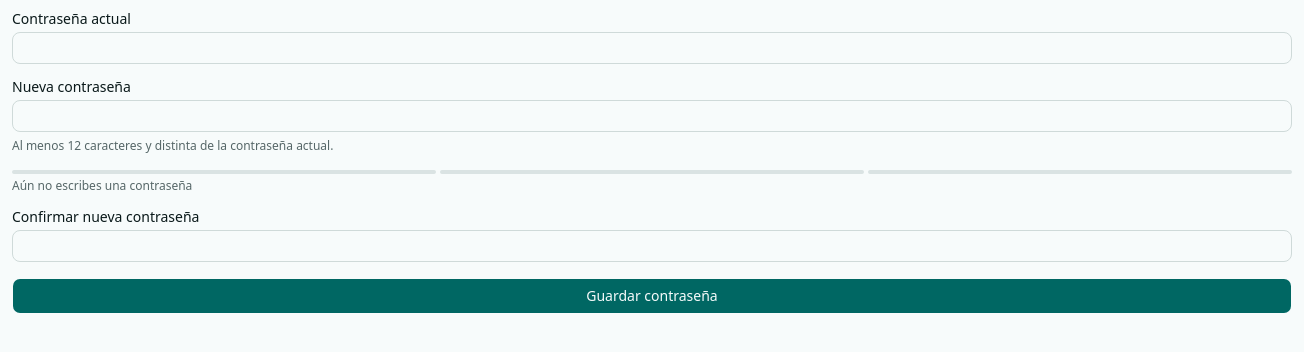
Test case: PasswordChangeForm: checks before it asks the API › wants a new password that differs from the current one
In the password field labelled "Contraseña actual": [652, 48] box top-left (12, 32), bottom-right (1292, 64), type "a-brand-new-password"
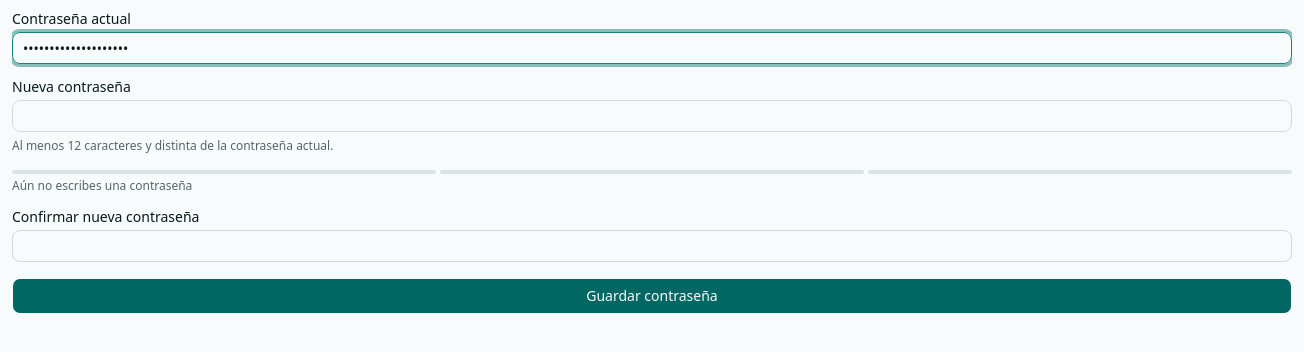
In the password field labelled "Nueva contraseña": [652, 116] box top-left (12, 100), bottom-right (1292, 132), type "a-brand-new-password"
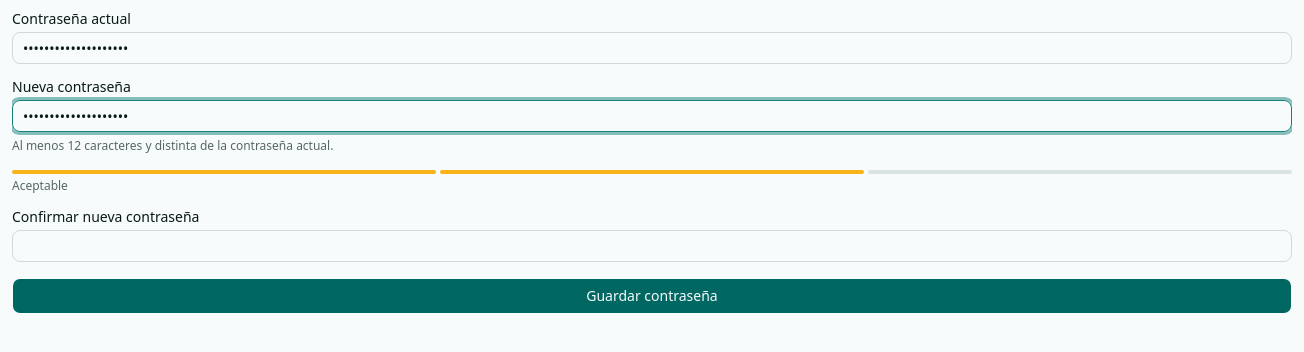
In the password field labelled "Confirmar nueva contraseña": [652, 246] box top-left (12, 230), bottom-right (1292, 262), type "a-brand-new-password"
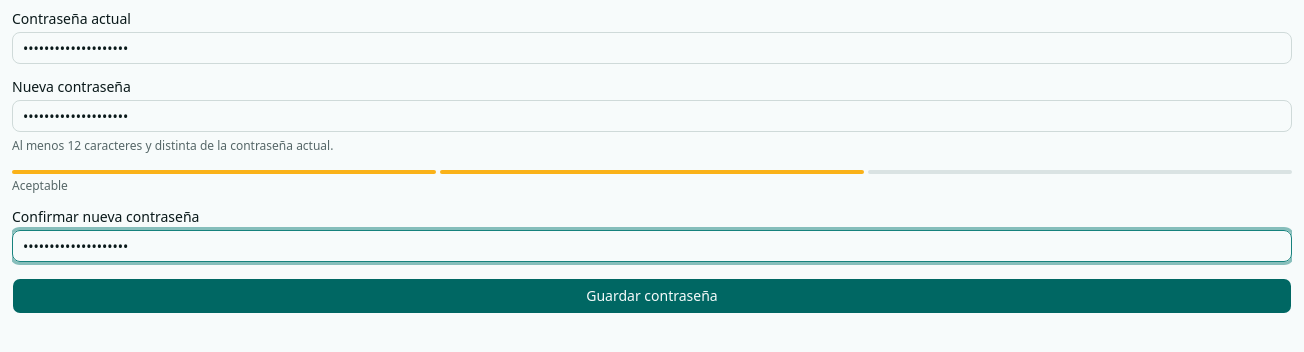
Click the button "Guardar contraseña": [652, 296] box top-left (12, 278), bottom-right (1292, 314)
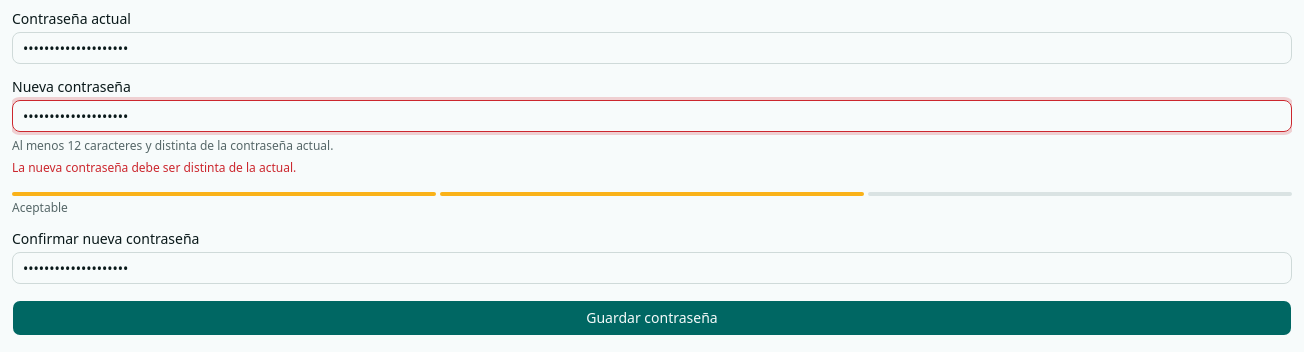
Check: the text "La nueva contraseña debe ser distinta de la actual." is shown, box top-left (12, 159), bottom-right (296, 176)
